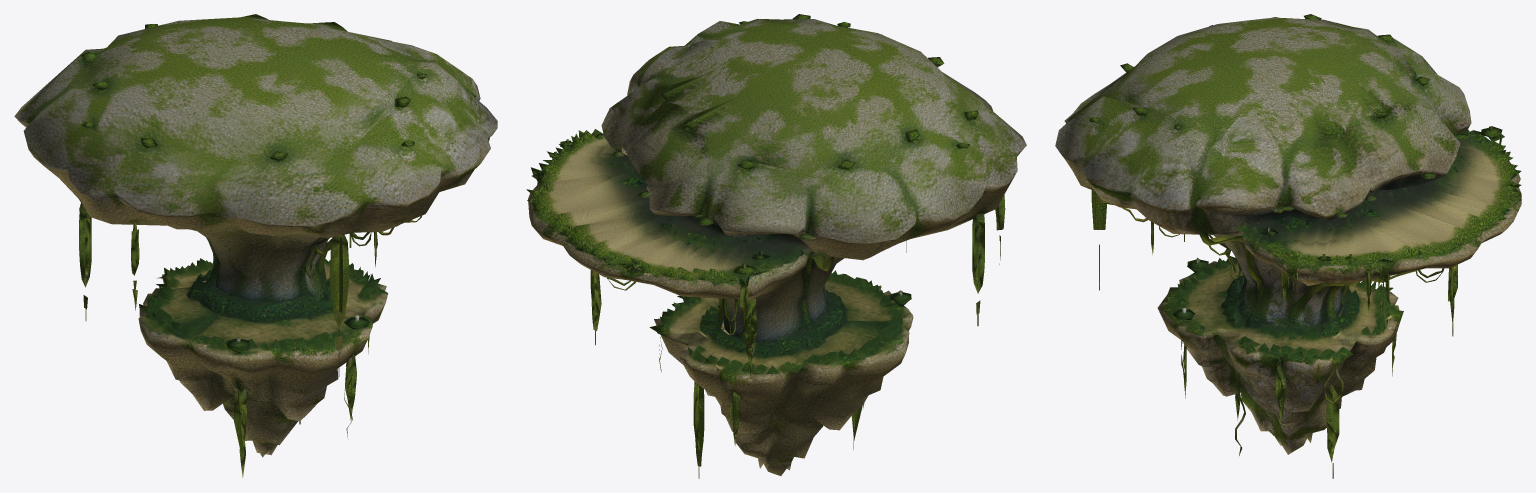
The model's file is floating_island_3d_model_1.fbx.
The picture shows the model from 3 angles, left to right: view 1: azimuth 30°, elevation 25°; view 2: azimuth 150°, elevation 25°; view 3: azimuth 270°, elevation 25°; orthographic projection. The views are drawn at different scales.
Parts seen in each view (by area): view 1: tripo_node_9c42c0ab; view 2: tripo_node_9c42c0ab; view 3: tripo_node_9c42c0ab.
Part boxes in pixels (x1,y1,x2,y2): tripo_node_9c42c0ab: [14, 14, 497, 477]; tripo_node_9c42c0ab: [526, 14, 1026, 478]; tripo_node_9c42c0ab: [1055, 14, 1521, 478].
Size of the model in its own units: 0.9629 by 0.9277 by 0.998.
Materials: 1 (1 with a texture image).
